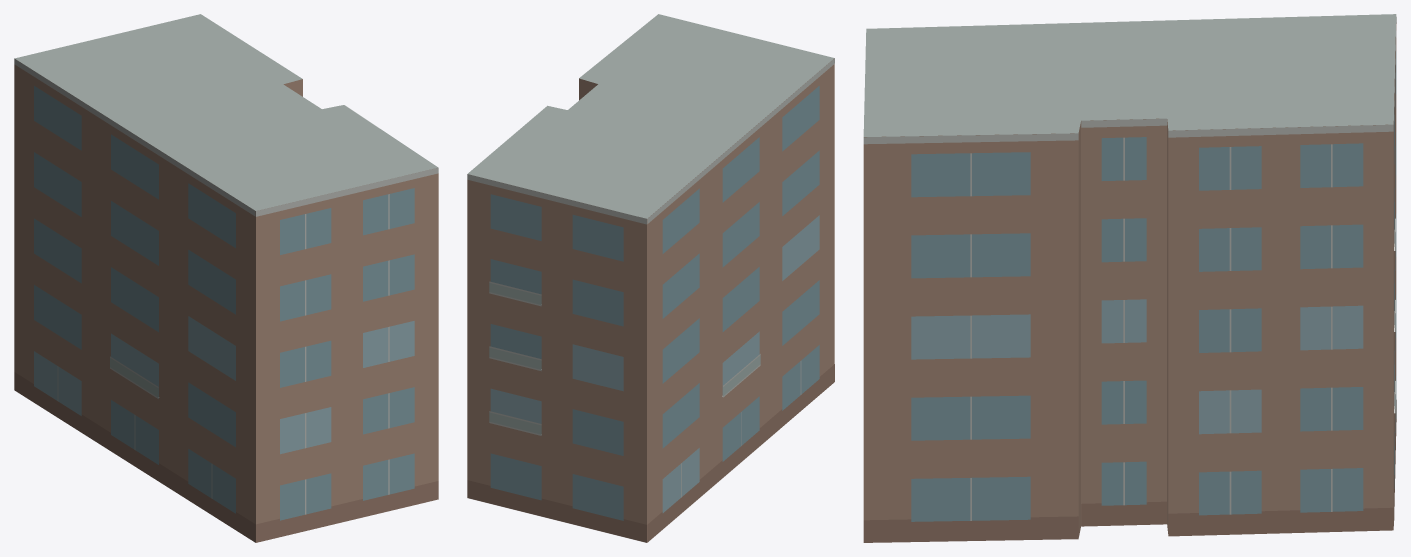
File: survey-upis-32587247.glb
3 views of the same model, side by side, from view 1: azimuth 30°, elevation 25°; view 2: azimuth 150°, elevation 25°; view 3: azimuth 270°, elevation 25° (orthographic). The views are drawn at different scales.
Parts seen in each view (by area): view 1: survey-upis-32587247.tmp; view 2: survey-upis-32587247.tmp; view 3: survey-upis-32587247.tmp.
Boxes of the visible parts, x1=… form: survey-upis-32587247.tmp: x1=14, y1=14, x2=438, y2=542; survey-upis-32587247.tmp: x1=467, y1=14, x2=834, y2=542; survey-upis-32587247.tmp: x1=863, y1=14, x2=1396, y2=542.
Size of the model in its own units: 9.05 by 13.9 by 16.55.
